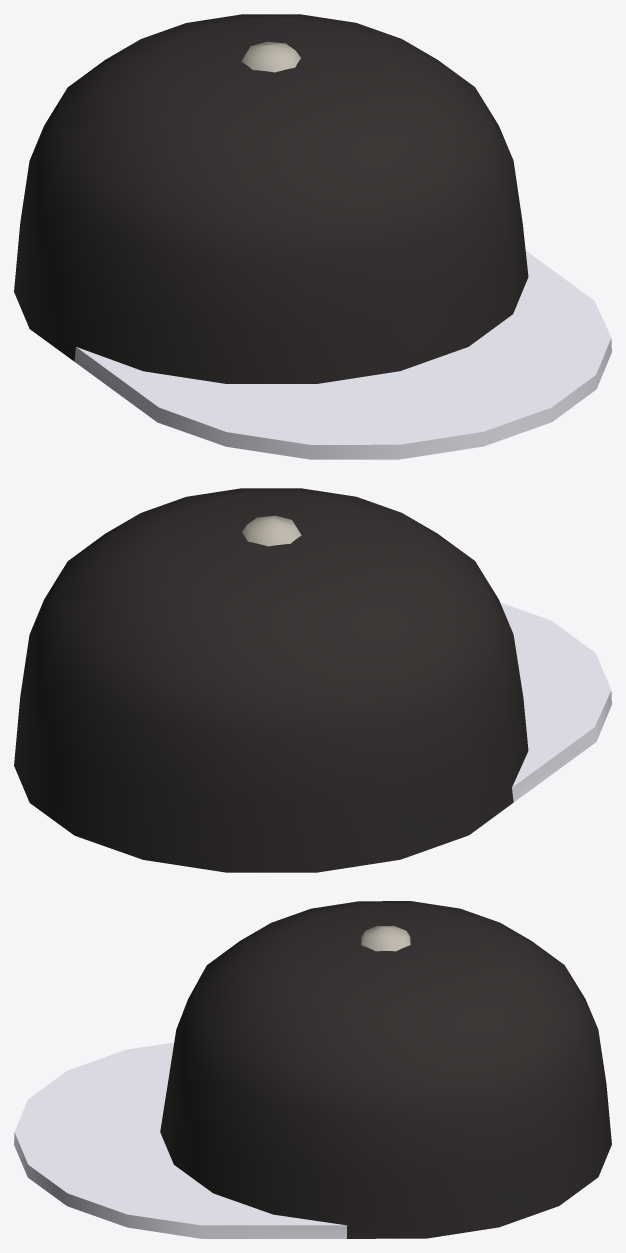
Rendered from Hat_10_02.fbx.
The picture shows the model from 3 angles, top to bottom: view 1: azimuth 30°, elevation 25°; view 2: azimuth 150°, elevation 25°; view 3: azimuth 270°, elevation 25°; orthographic projection. The views are drawn at different scales.
Visible parts, largest first — view 1: Hat_10_02; view 2: Hat_10_02; view 3: Hat_10_02.
Part boxes in pixels (x1=…): Hat_10_02: x1=14, y1=14, x2=611, y2=459; Hat_10_02: x1=14, y1=488, x2=611, y2=872; Hat_10_02: x1=14, y1=901, x2=611, y2=1238.
Size of the model in its own units: 35.83 by 19.18 by 48.09.
